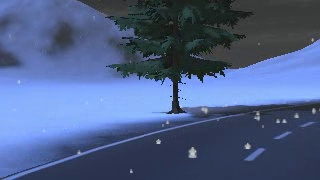Lane: (5, 99, 319, 179)
